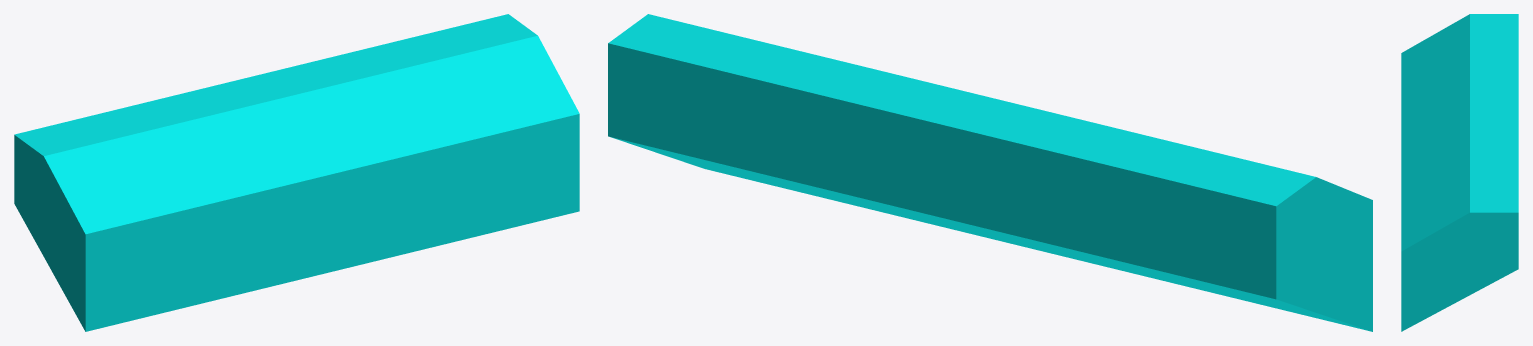
The model's file is SM_Bld_Stair_Quarter_01_Collision.fbx.
3 renders of one model, left to right at view 1: azimuth 30°, elevation 25°; view 2: azimuth 150°, elevation 25°; view 3: azimuth 270°, elevation 25°, orthographic. The views are drawn at different scales.
Parts seen in each view (by area): view 1: SM_Bld_Stair_Quarter_01_Collision; view 2: SM_Bld_Stair_Quarter_01_Collision; view 3: SM_Bld_Stair_Quarter_01_Collision.
Part boxes in pixels (<box>): SM_Bld_Stair_Quarter_01_Collision: <box>14,14,579,331</box>; SM_Bld_Stair_Quarter_01_Collision: <box>608,14,1372,331</box>; SM_Bld_Stair_Quarter_01_Collision: <box>1401,14,1518,331</box>.
Bounding box in the file's own units: 250 × 70.16 × 62.5.
